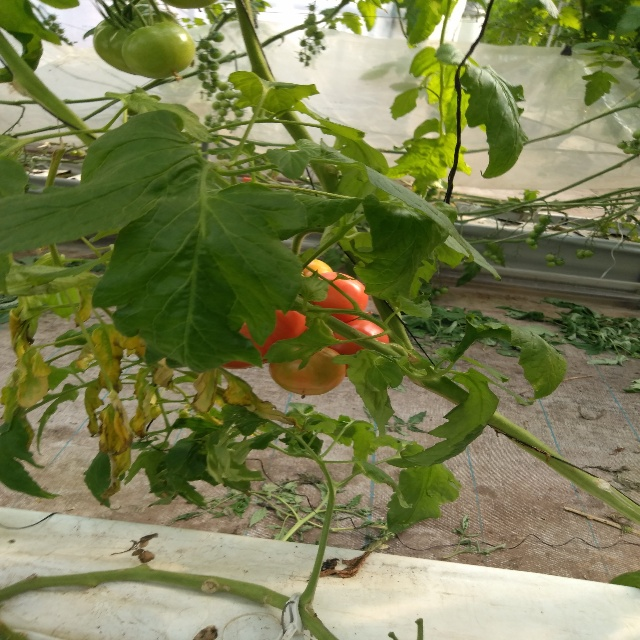b_fully_ripened: (302, 272, 369, 323), (322, 320, 389, 355)
b_green: (92, 4, 183, 75), (120, 21, 195, 79)
b_half_ripened: (268, 344, 346, 396)
